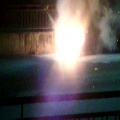fire: (54, 17, 84, 66)
